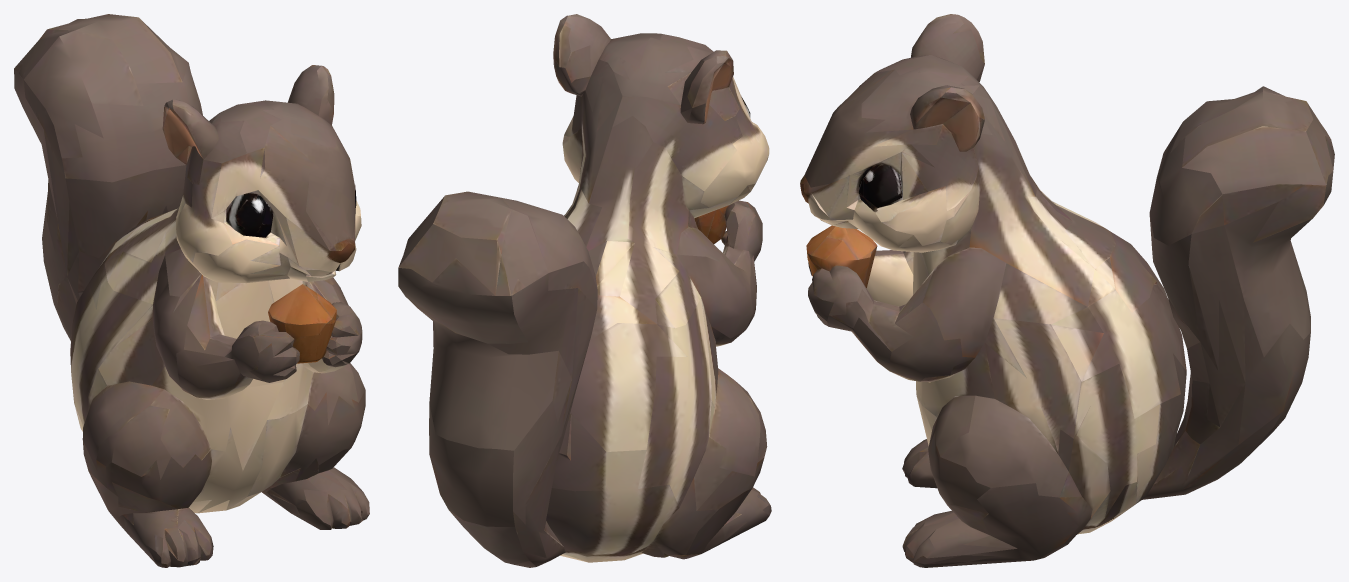
Rendered from squirrel.glb.
The picture shows the model from 3 angles, left to right: view 1: azimuth 30°, elevation 25°; view 2: azimuth 150°, elevation 25°; view 3: azimuth 270°, elevation 25°; orthographic projection. The views are drawn at different scales.
Bounding box in the file's own units: 1.11 × 1.83 × 1.9.
1 material, 1 textured.
